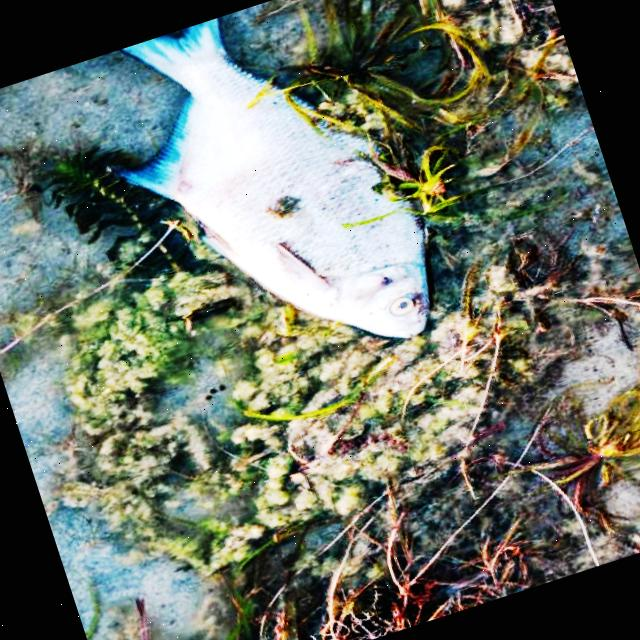Epizootic Ulcerative Syndrome -EUS-: (117, 18, 430, 337)
